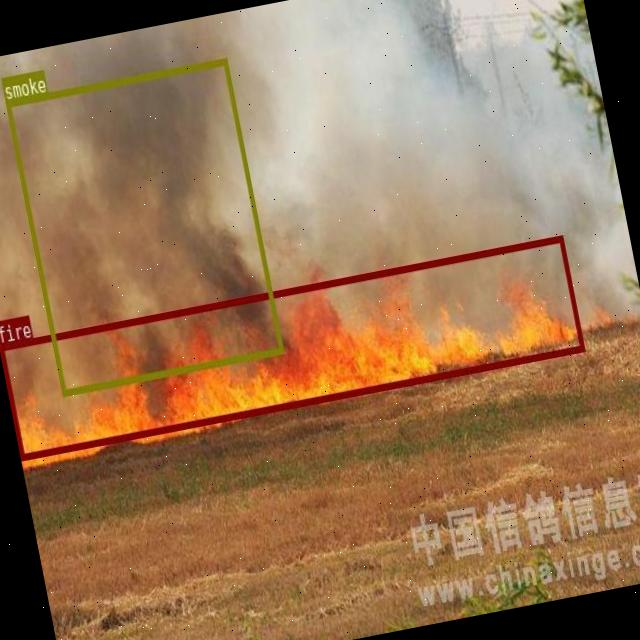fire: (0, 234, 584, 459)
smoke: (5, 58, 284, 394)
